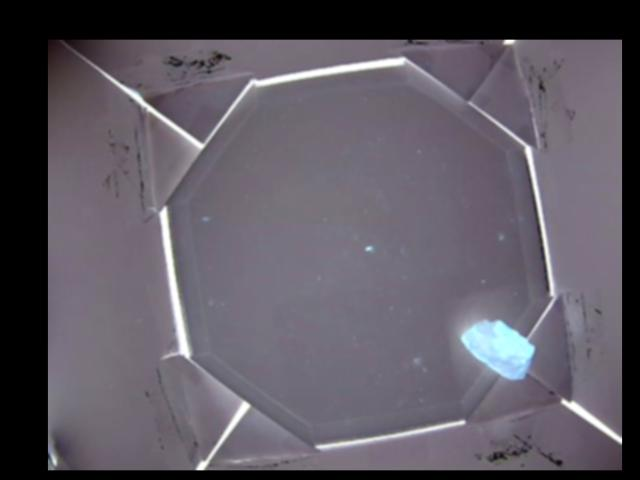Brisk: (460, 318, 535, 381)
